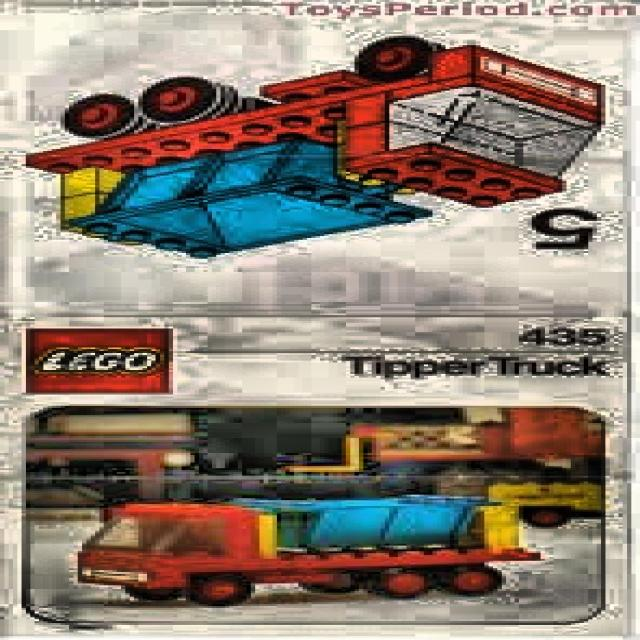dump_truck: (24, 35, 607, 264), (70, 494, 552, 618)
